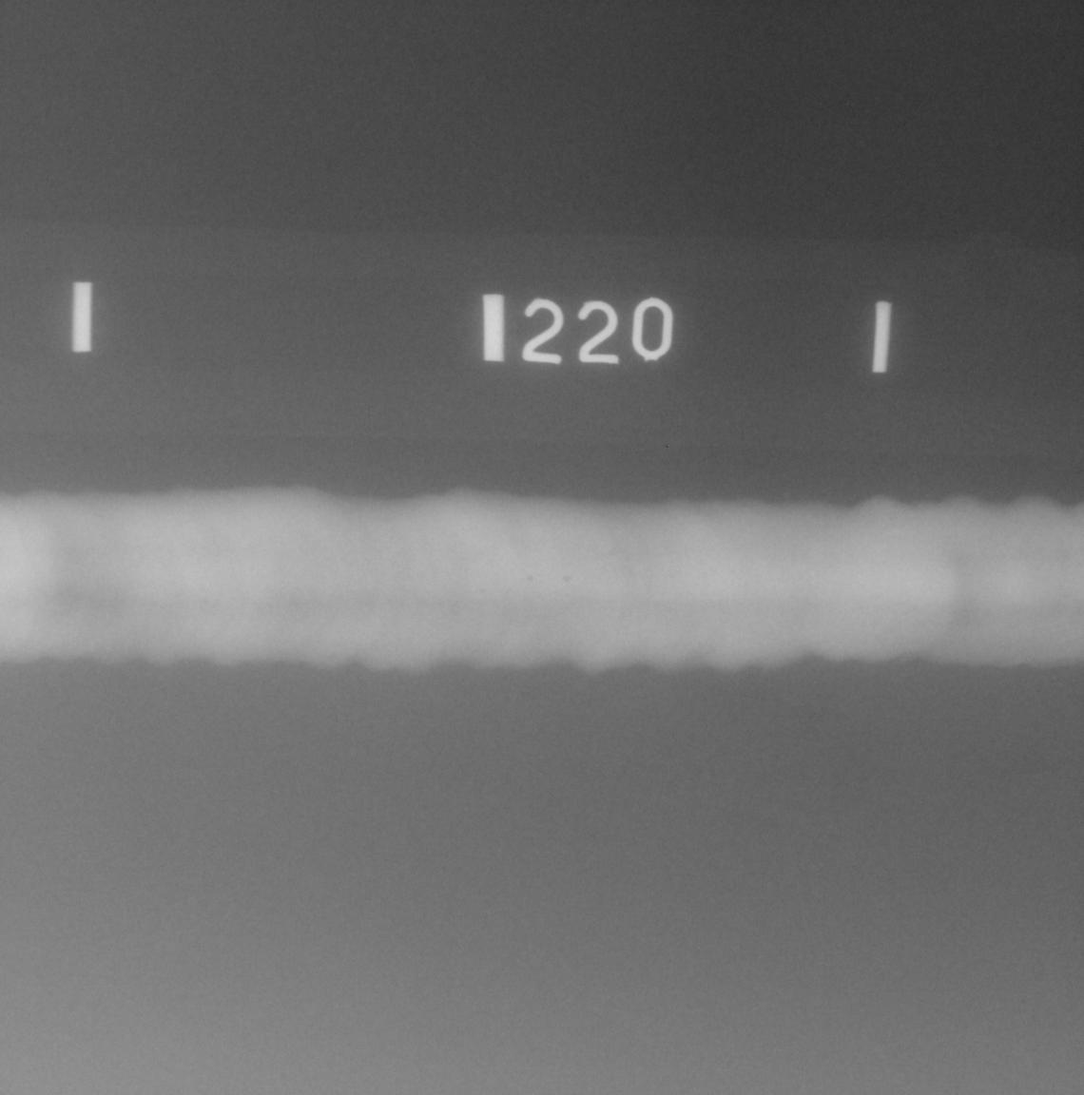Pore/Porosity: (562, 575, 572, 582), (528, 575, 534, 581), (480, 588, 486, 593)
